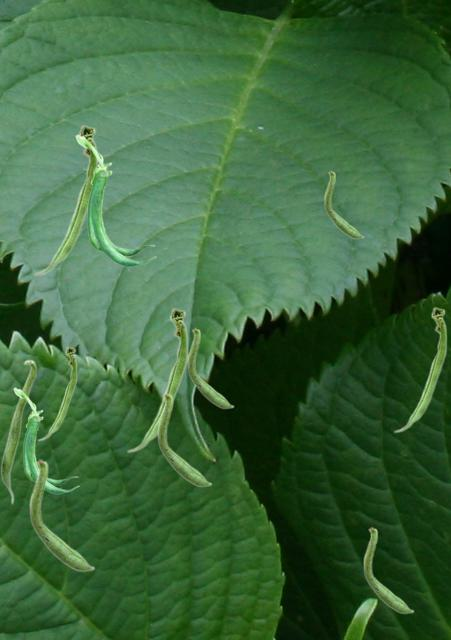french_bean: (75, 134, 155, 266), (33, 124, 97, 275), (126, 307, 187, 452), (29, 458, 94, 571), (13, 387, 78, 493), (393, 306, 446, 432), (0, 359, 36, 504), (157, 392, 211, 486), (363, 526, 413, 613), (187, 327, 233, 408), (37, 346, 76, 440), (324, 170, 363, 238)
